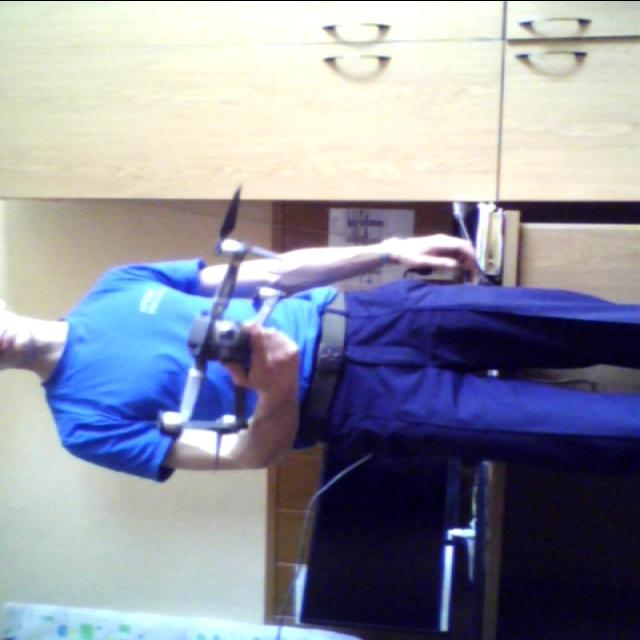drone: (150, 175, 306, 468)
